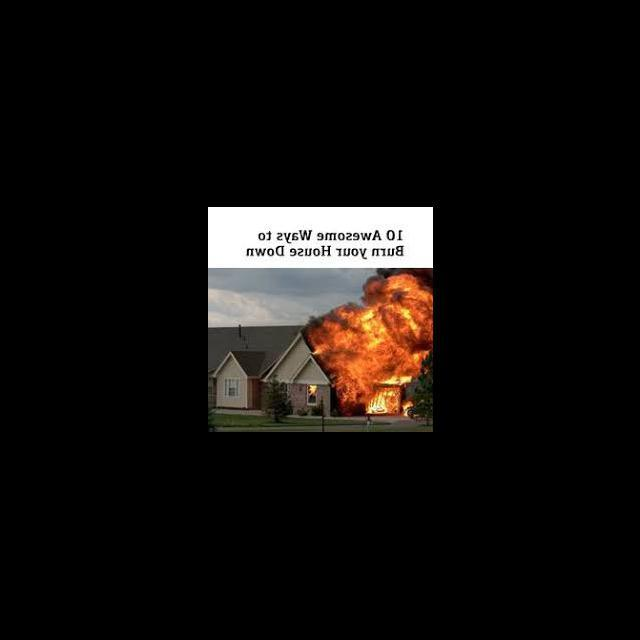Fire: (306, 268, 432, 419)
